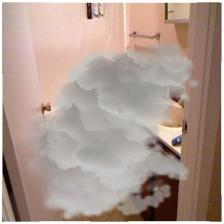fire: (18, 40, 202, 222)
